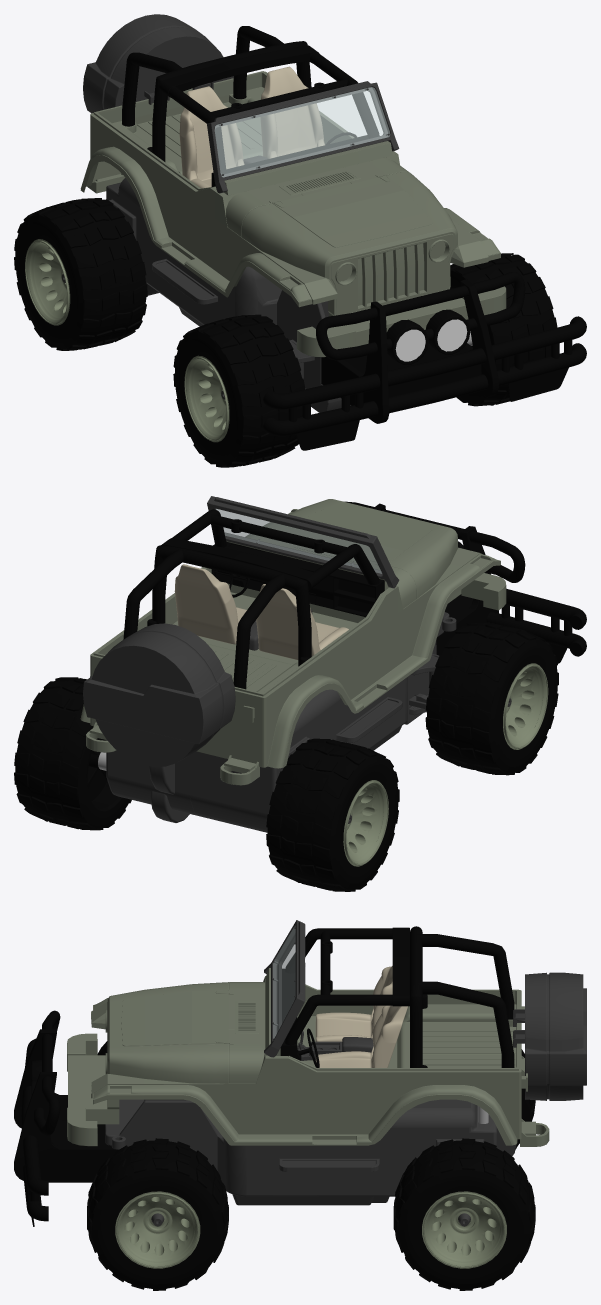
File: toycar_01.fbx
3 renders of one model, top to bottom at view 1: azimuth 30°, elevation 25°; view 2: azimuth 150°, elevation 25°; view 3: azimuth 270°, elevation 25°, orthographic. The views are drawn at different scales.
Parts seen in each view (by area): view 1: toycar_01; view 2: toycar_01; view 3: toycar_01.
Boxes of the visible parts, bbox=[...] form: toycar_01: bbox=[14, 14, 586, 467]; toycar_01: bbox=[14, 496, 586, 891]; toycar_01: bbox=[14, 920, 586, 1290].
Bounding box in the file's own units: 21.2 × 17.25 × 34.04.
